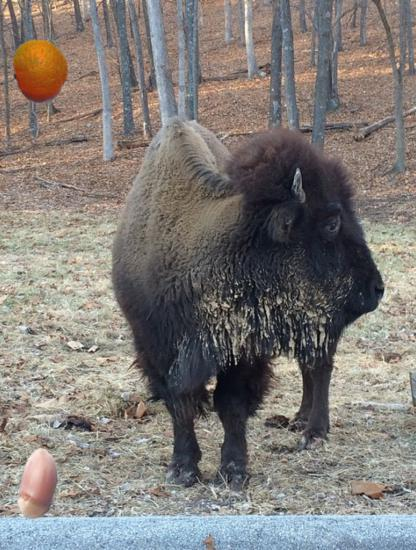Hazelnut: (2, 447, 76, 521)
Mandarine: (8, 38, 74, 104)
